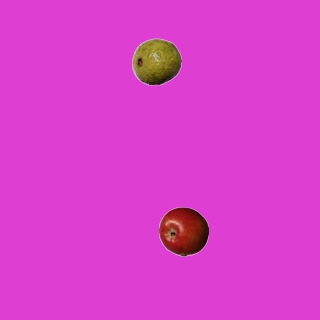Apple Braeburn: (158, 206, 208, 256)
Guava: (131, 36, 181, 86)
